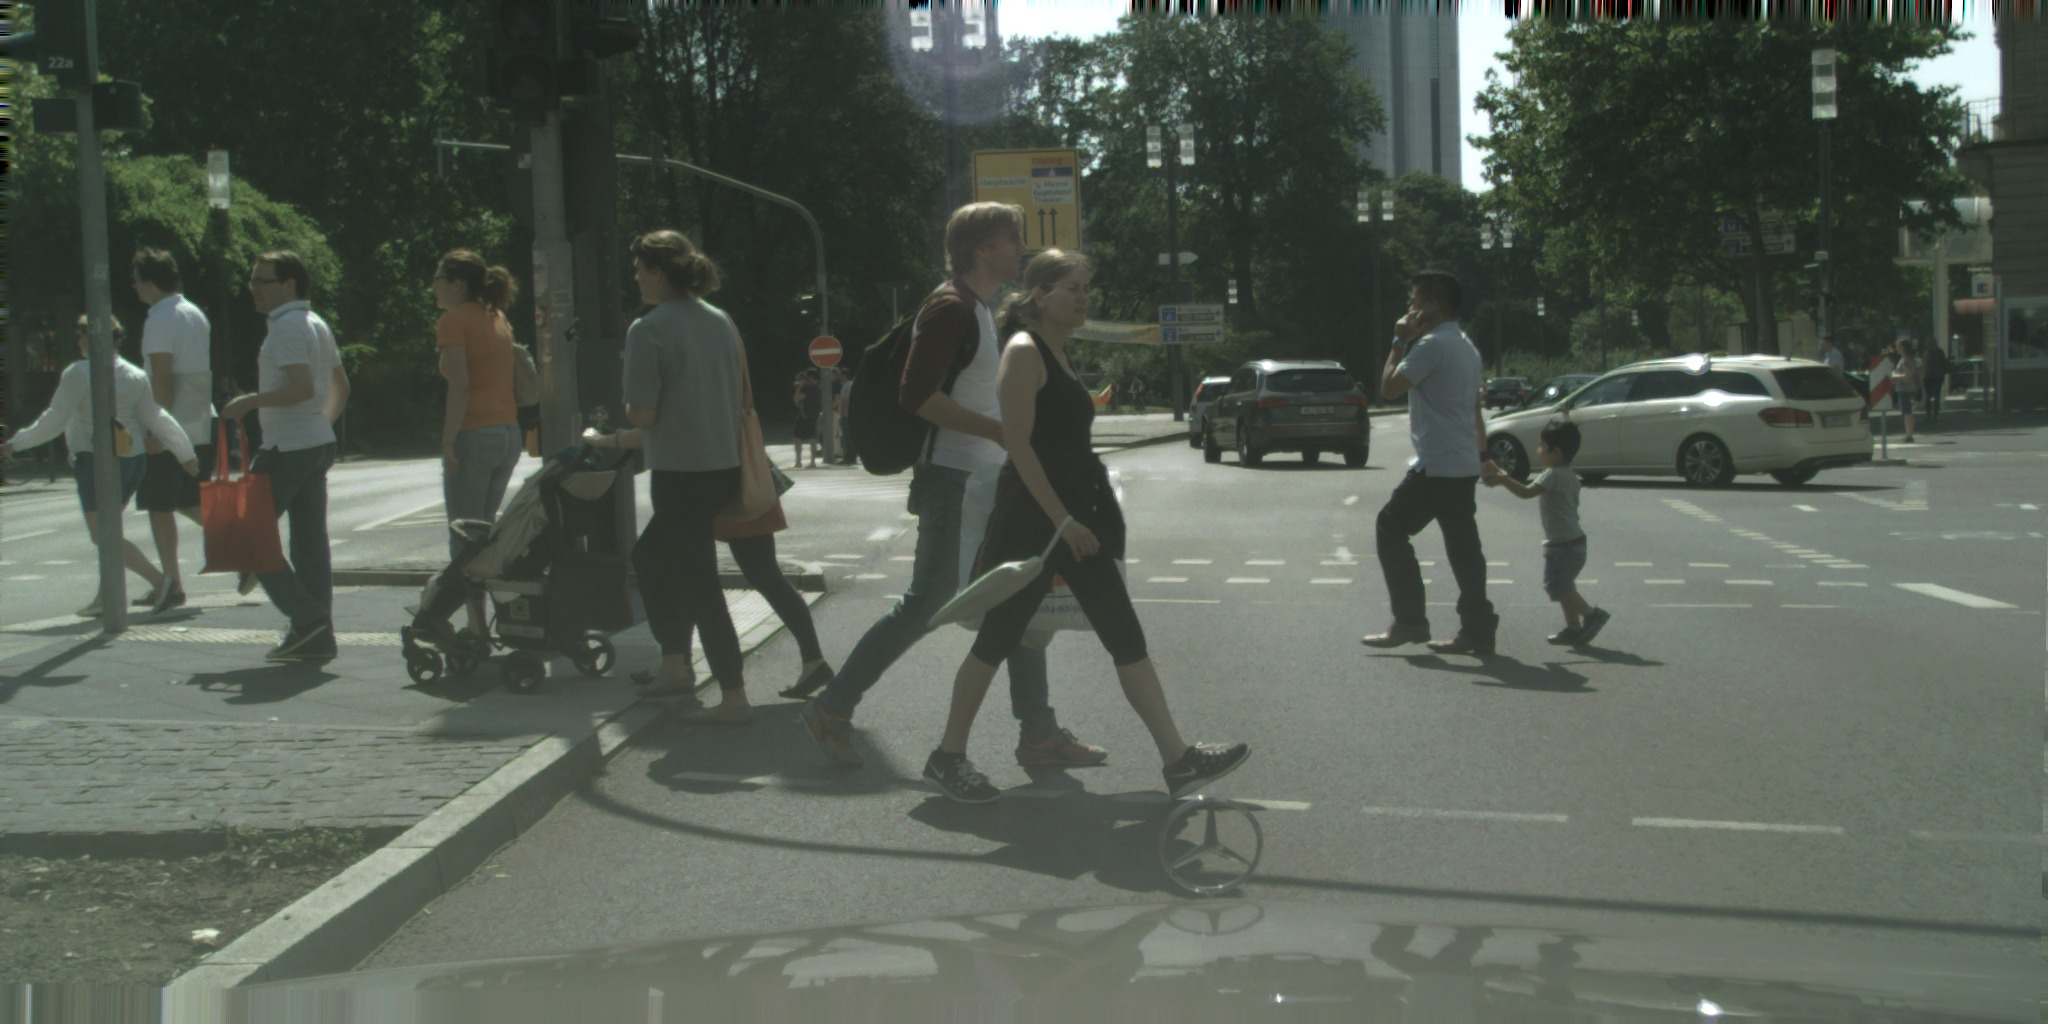bicycle: (0, 446, 37, 487), (1130, 392, 1145, 415), (1106, 389, 1117, 414)
car: (1475, 350, 1874, 488), (1202, 359, 1370, 468), (1489, 374, 1620, 426), (1188, 377, 1251, 449), (1484, 376, 1536, 413), (1836, 369, 1878, 410), (1947, 357, 1983, 395), (1511, 376, 1535, 406)
person: (921, 245, 1251, 804), (801, 200, 1107, 766), (583, 325, 833, 697), (624, 231, 777, 724), (197, 249, 350, 661), (0, 314, 199, 618), (1361, 270, 1507, 657), (123, 248, 268, 607), (432, 249, 544, 656), (1495, 422, 1610, 646), (1888, 339, 1922, 443), (793, 368, 824, 468), (838, 368, 861, 464), (1924, 333, 1946, 423), (826, 367, 845, 434), (1819, 337, 1843, 379), (813, 410, 828, 458), (793, 373, 808, 417)
rider: (1130, 376, 1145, 413), (1108, 379, 1119, 412)
